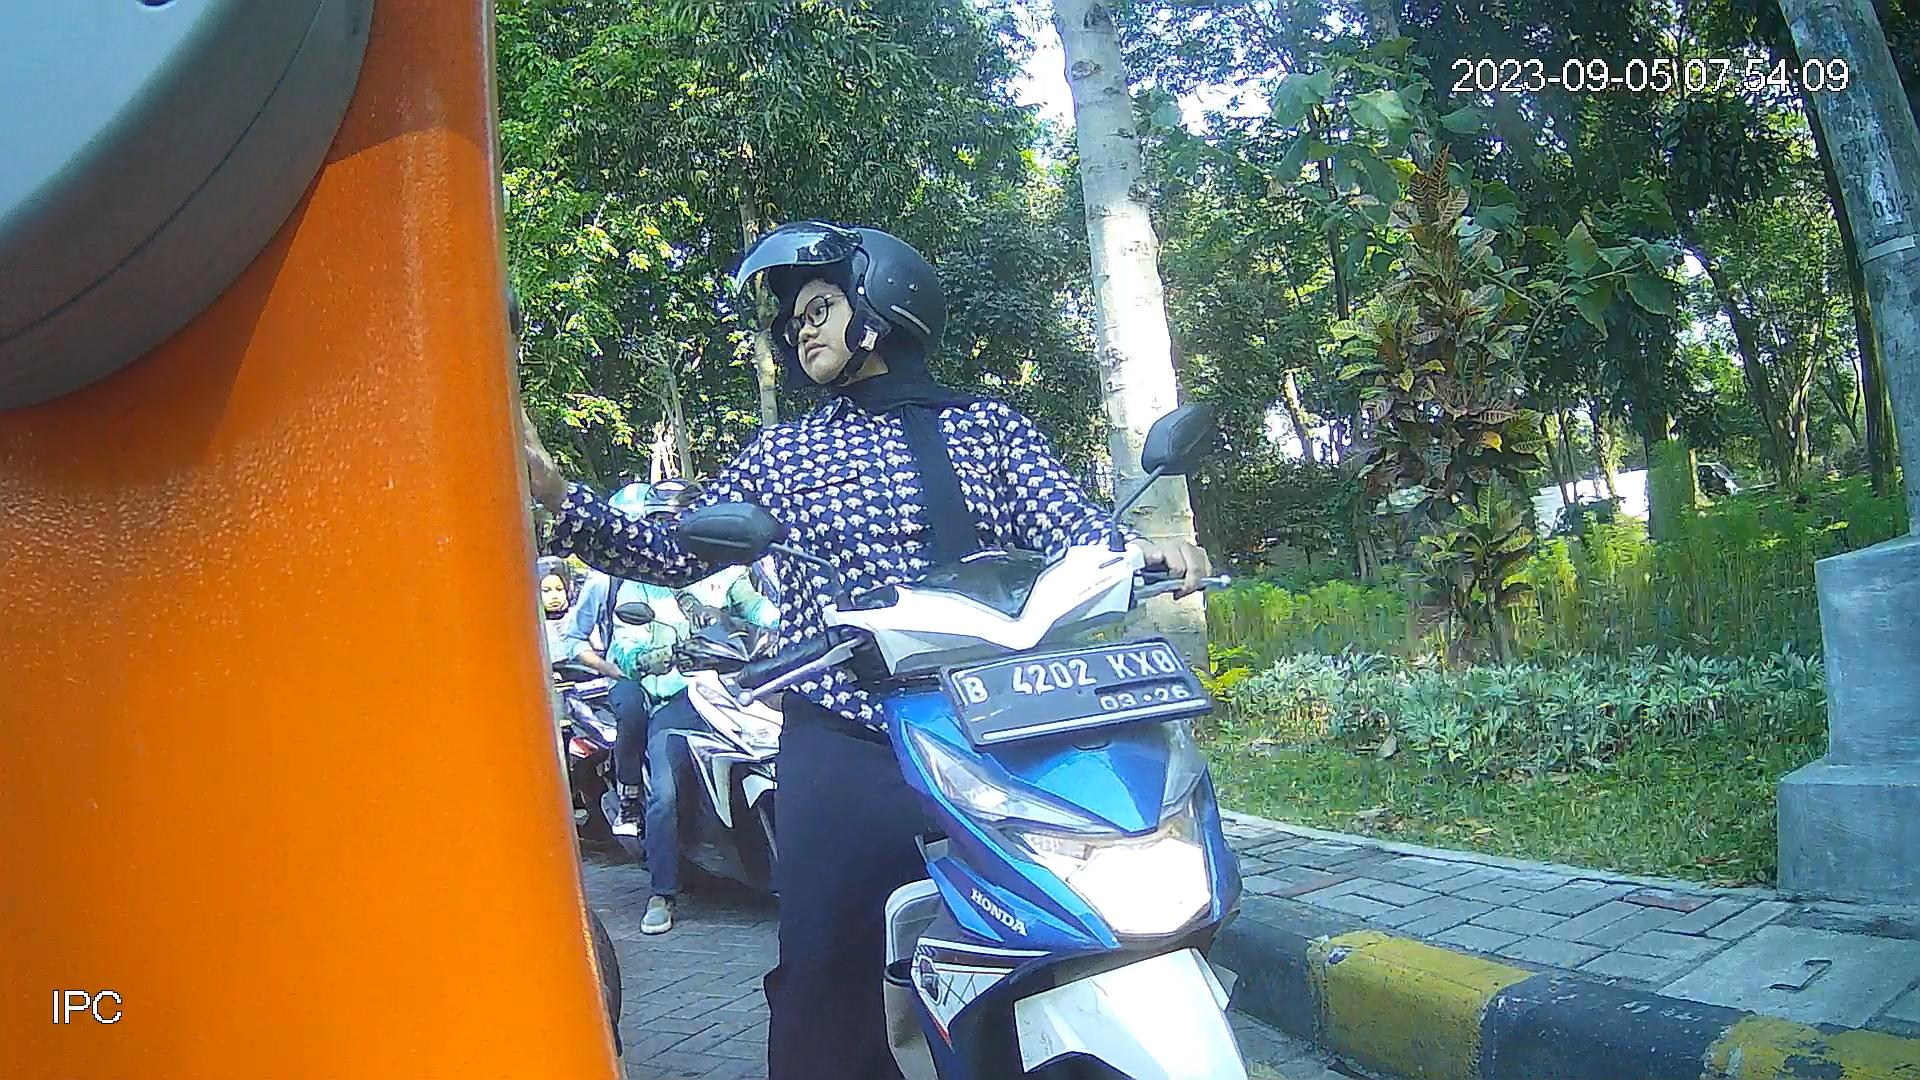plat: (934, 633, 1221, 746)
